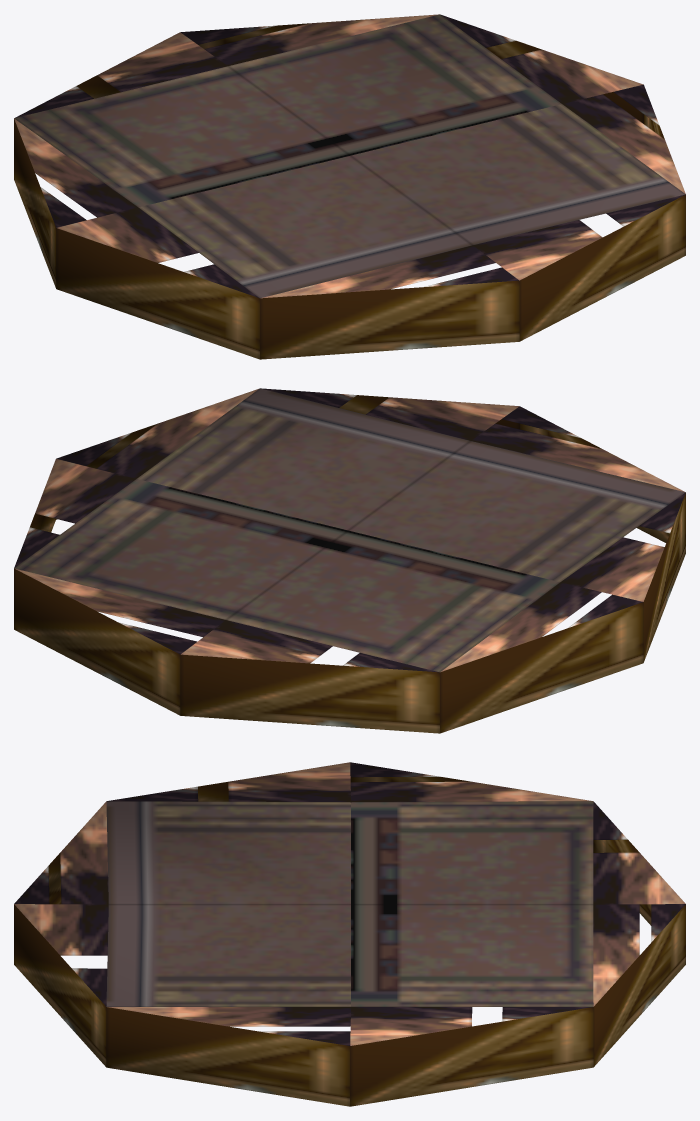
3 renders of one model, top to bottom at view 1: azimuth 30°, elevation 25°; view 2: azimuth 150°, elevation 25°; view 3: azimuth 270°, elevation 25°, orthographic.
Parts seen in each view (by area): view 1: T1L1M002_7; view 2: T1L1M002_7; view 3: T1L1M002_7.
Boxes of the visible parts, x1=… form: T1L1M002_7: x1=14, y1=14, x2=685, y2=359; T1L1M002_7: x1=14, y1=388, x2=685, y2=733; T1L1M002_7: x1=14, y1=762, x2=685, y2=1106.
Bounding box in the file's own units: 2 × 0.1992 × 2.
